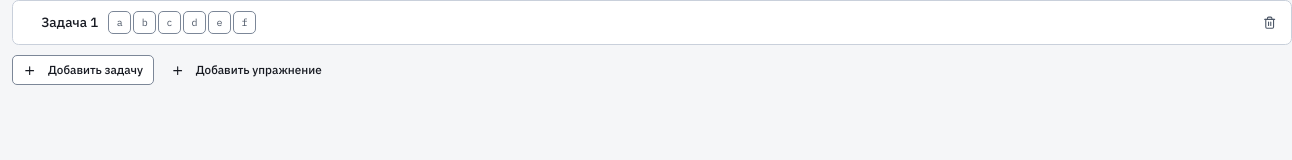
ProblemBuilder › reveals more letters progressively after f
The image size is (1292, 160).
Click the button named "Задача 1, подзадача f": (245, 23) [233, 11, 256, 34]
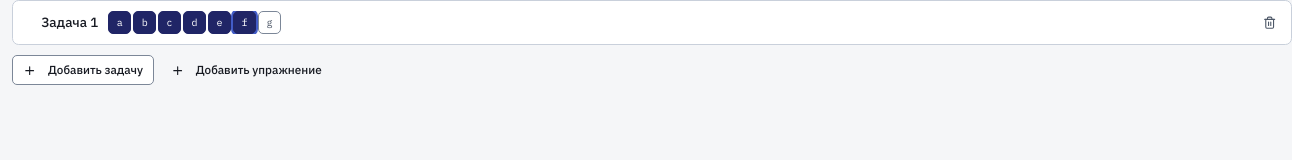
Expected: the button named "Задача 1, подзадача g" is shown, [258, 11, 281, 34]
